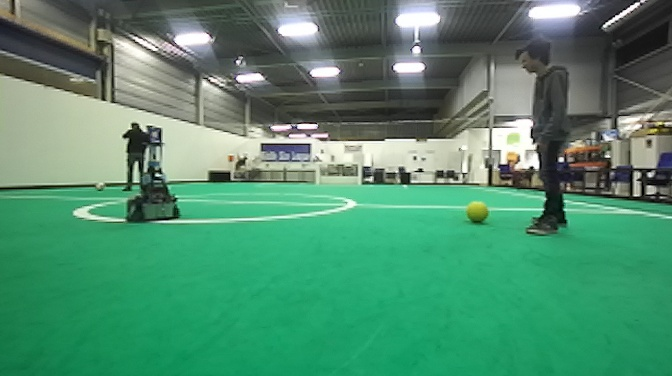ball: (463, 198, 492, 228), (93, 180, 107, 193)
goal: (315, 160, 363, 189)
goalpost: (356, 161, 364, 188), (314, 159, 321, 187)
human: (505, 34, 572, 239), (117, 121, 151, 194)
robot: (122, 137, 184, 224)
